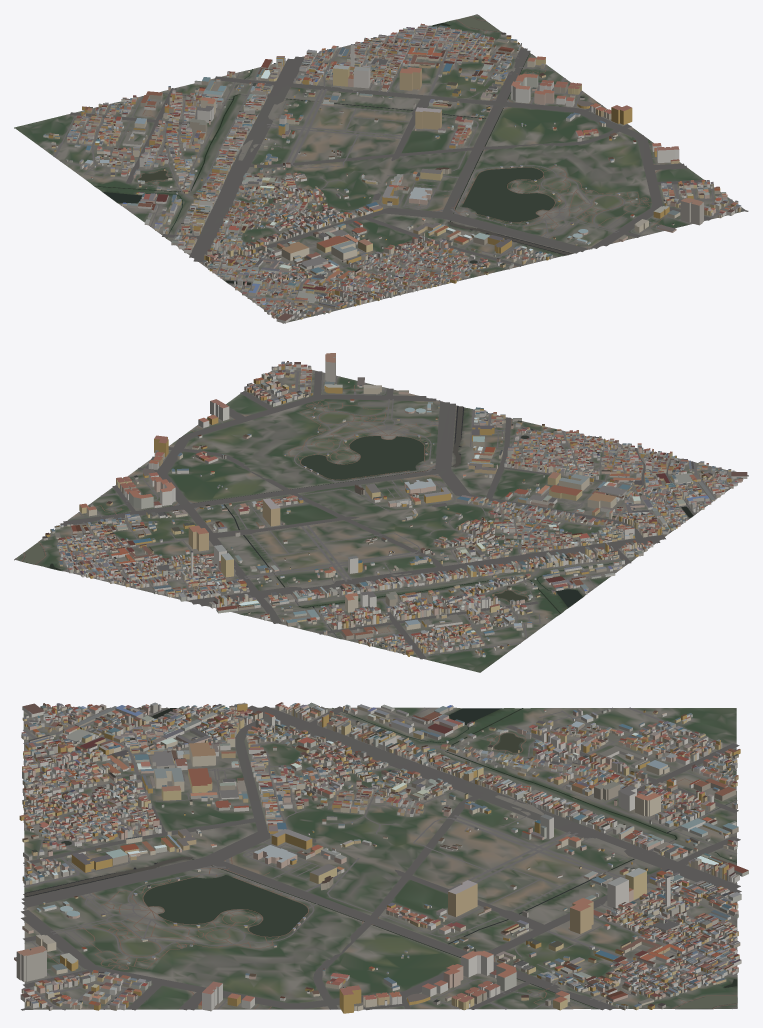
3 renders of one model, top to bottom at view 1: azimuth 30°, elevation 25°; view 2: azimuth 150°, elevation 25°; view 3: azimuth 270°, elevation 25°, orthographic. The views are drawn at different scales.
Visible parts, largest first — view 1: ground, buildings, roads, water; view 2: ground, buildings, roads, water; view 3: ground, buildings, roads, water.
Boxes of the visible parts, <box> form: ground: <box>14,14,744,323</box>; buildings: <box>43,23,741,323</box>; roads: <box>53,14,748,318</box>; water: <box>94,16,571,284</box>; ground: <box>14,363,748,672</box>; buildings: <box>42,353,747,657</box>; roads: <box>14,361,729,659</box>; water: <box>23,405,693,638</box>; ground: <box>23,707,737,1009</box>; buildings: <box>14,702,748,1013</box>; roads: <box>21,705,741,1010</box>; water: <box>23,708,736,1009</box>.
Bounding box in the file's own units: 1429 × 79.55 × 1445.
